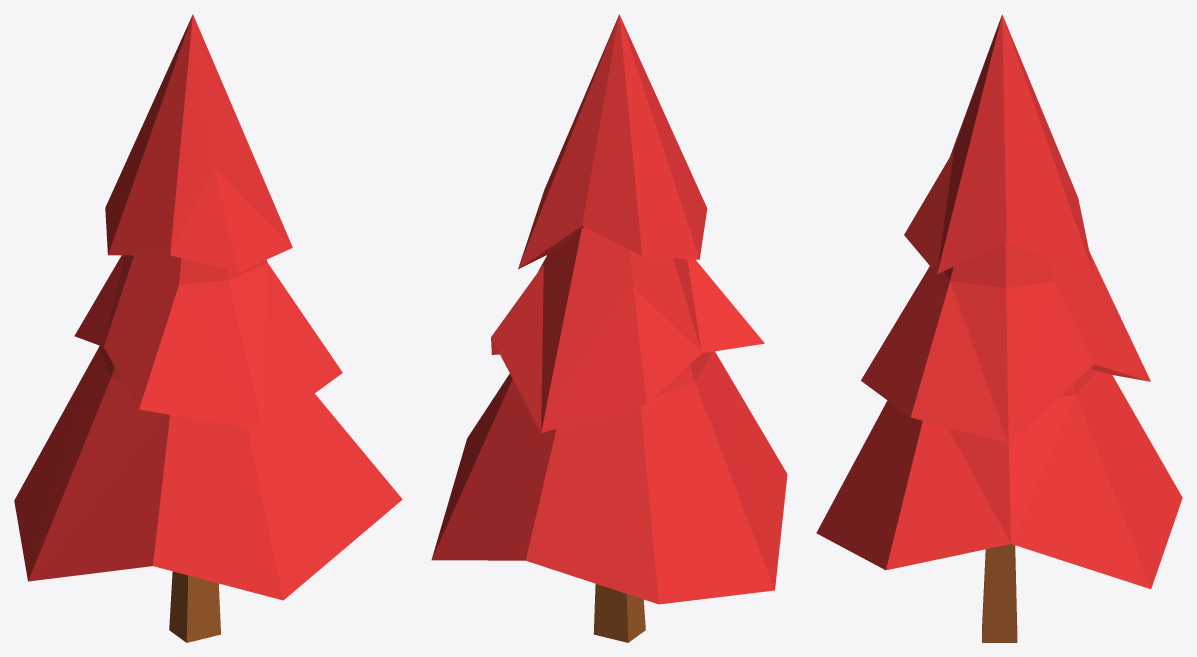
Rendered from Tree 02.FBX.
3 views of the same model, side by side, from view 1: azimuth 30°, elevation 25°; view 2: azimuth 150°, elevation 25°; view 3: azimuth 270°, elevation 25° (orthographic).
Visible parts, largest first — view 1: Box001; view 2: Box001; view 3: Box001.
Boxes of the visible parts, left/top/right/bottom form: Box001: left=14, top=14, right=402, bottom=642; Box001: left=431, top=14, right=787, bottom=642; Box001: left=816, top=14, right=1182, bottom=642.
Bounding box in the file's own units: 6.76 × 12.8 × 6.86.
